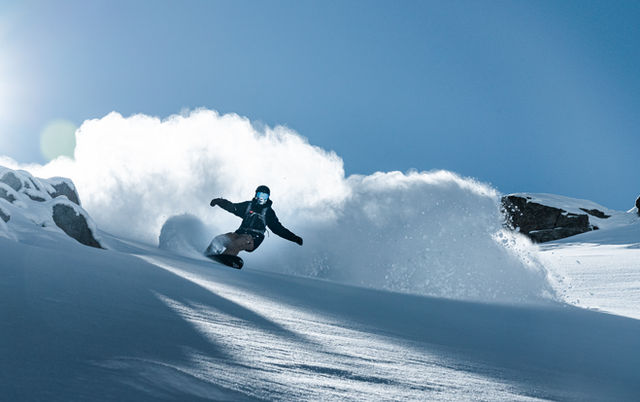snowboarder: (195, 185, 304, 276)
